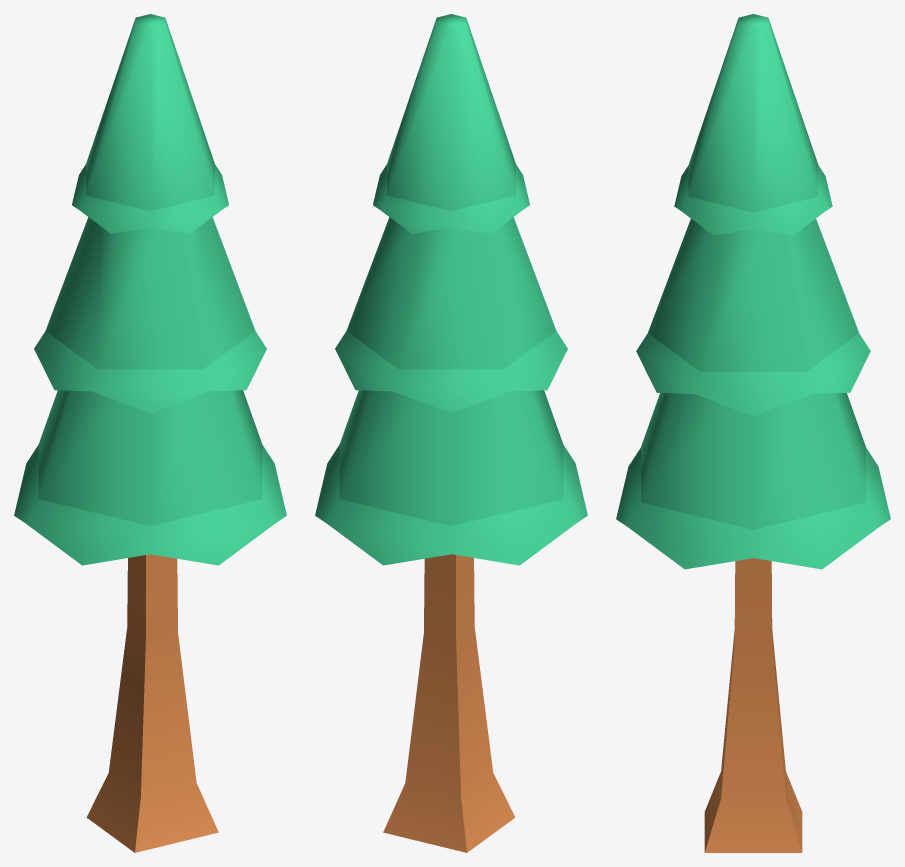
The model's file is treeLarge.fbx.
The picture shows the model from 3 angles, left to right: view 1: azimuth 30°, elevation 25°; view 2: azimuth 150°, elevation 25°; view 3: azimuth 270°, elevation 25°; orthographic projection.
Visible parts, largest first — view 1: treeLarge; view 2: treeLarge; view 3: treeLarge.
Part boxes in pixels (<box>): treeLarge: <box>14,14,286,852</box>; treeLarge: <box>315,14,587,852</box>; treeLarge: <box>616,14,890,852</box>.
Bounding box in the file's own units: 5.53 × 17.11 × 5.26.
